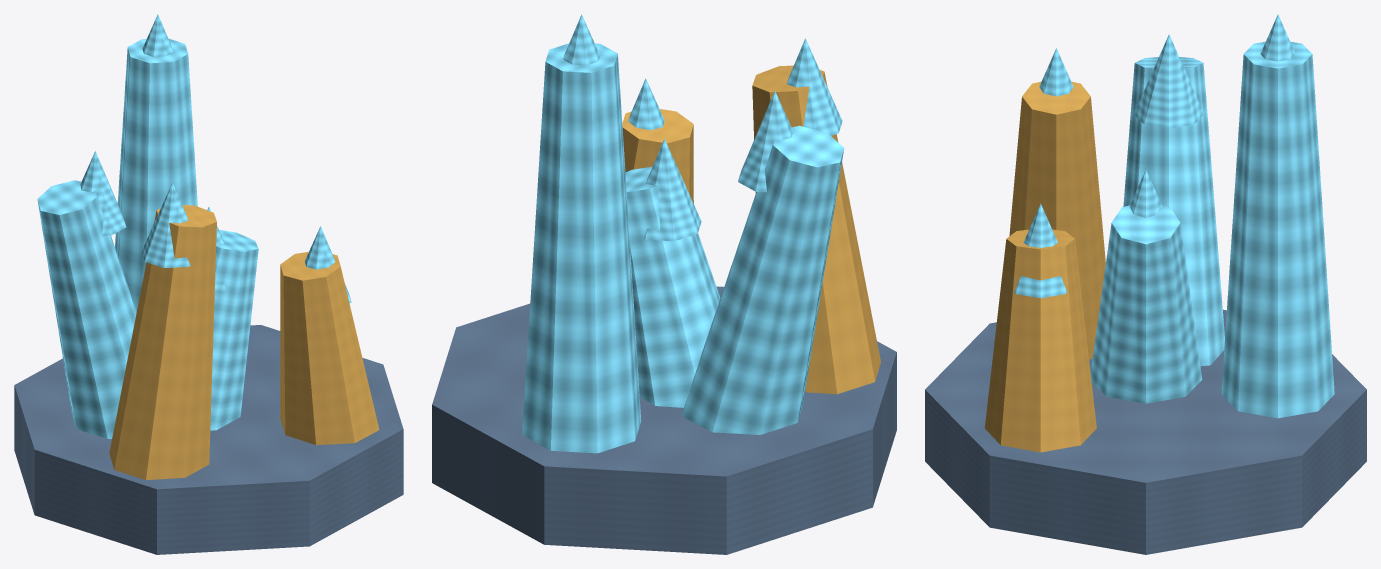
File: atlas100-s051-a04.glb
The picture shows the model from 3 angles, left to right: view 1: azimuth 30°, elevation 25°; view 2: azimuth 150°, elevation 25°; view 3: azimuth 270°, elevation 25°; orthographic projection. The views are drawn at different scales.
Parts seen in each view (by area): view 1: atlas100-s051-a04:part-000, atlas100-s051-a04:part-003, atlas100-s051-a04:part-009, atlas100-s051-a04:part-007, atlas100-s051-a04:part-005, atlas100-s051-a04:part-001, atlas100-s051-a04:part-004, atlas100-s051-a04:part-010, atlas100-s051-a04:part-008, atlas100-s051-a04:part-006; view 2: atlas100-s051-a04:part-000, atlas100-s051-a04:part-005, atlas100-s051-a04:part-009, atlas100-s051-a04:part-001, atlas100-s051-a04:part-003, atlas100-s051-a04:part-007, atlas100-s051-a04:part-002, atlas100-s051-a04:part-004, atlas100-s051-a04:part-010, atlas100-s051-a04:part-006, atlas100-s051-a04:part-008; view 3: atlas100-s051-a04:part-000, atlas100-s051-a04:part-005, atlas100-s051-a04:part-007, atlas100-s051-a04:part-001, atlas100-s051-a04:part-003, atlas100-s051-a04:part-009, atlas100-s051-a04:part-010, atlas100-s051-a04:part-008, atlas100-s051-a04:part-004, atlas100-s051-a04:part-006, atlas100-s051-a04:part-002.
Boxes of the visible parts, x1=… form: atlas100-s051-a04:part-000: x1=14, y1=325, x2=403, y2=554; atlas100-s051-a04:part-003: x1=109, y1=205, x2=216, y2=479; atlas100-s051-a04:part-009: x1=37, y1=180, x2=136, y2=438; atlas100-s051-a04:part-007: x1=280, y1=251, x2=379, y2=445; atlas100-s051-a04:part-005: x1=115, y1=38, x2=197, y2=311; atlas100-s051-a04:part-001: x1=210, y1=230, x2=258, y2=430; atlas100-s051-a04:part-004: x1=141, y1=182, x2=190, y2=267; atlas100-s051-a04:part-010: x1=80, y1=151, x2=126, y2=235; atlas100-s051-a04:part-008: x1=305, y1=226, x2=351, y2=303; atlas100-s051-a04:part-006: x1=142, y1=14, x2=173, y2=56; atlas100-s051-a04:part-000: x1=432, y1=286, x2=896, y2=554; atlas100-s051-a04:part-005: x1=522, y1=43, x2=641, y2=453; atlas100-s051-a04:part-009: x1=682, y1=125, x2=844, y2=434; atlas100-s051-a04:part-001: x1=625, y1=166, x2=720, y2=407; atlas100-s051-a04:part-003: x1=752, y1=65, x2=880, y2=394; atlas100-s051-a04:part-007: x1=622, y1=109, x2=693, y2=203; atlas100-s051-a04:part-002: x1=643, y1=138, x2=701, y2=241; atlas100-s051-a04:part-004: x1=787, y1=38, x2=842, y2=135; atlas100-s051-a04:part-010: x1=738, y1=91, x2=792, y2=192; atlas100-s051-a04:part-006: x1=563, y1=14, x2=599, y2=65; atlas100-s051-a04:part-008: x1=628, y1=78, x2=664, y2=130; atlas100-s051-a04:part-000: x1=925, y1=309, x2=1366, y2=554; atlas100-s051-a04:part-005: x1=1221, y1=41, x2=1334, y2=418; atlas100-s051-a04:part-007: x1=984, y1=229, x2=1096, y2=452; atlas100-s051-a04:part-001: x1=1090, y1=205, x2=1202, y2=403; atlas100-s051-a04:part-003: x1=1009, y1=81, x2=1105, y2=359; atlas100-s051-a04:part-009: x1=1123, y1=57, x2=1224, y2=366; atlas100-s051-a04:part-010: x1=1134, y1=34, x2=1204, y2=128; atlas100-s051-a04:part-008: x1=1014, y1=203, x2=1067, y2=298; atlas100-s051-a04:part-004: x1=1039, y1=48, x2=1073, y2=96; atlas100-s051-a04:part-006: x1=1260, y1=14, x2=1295, y2=61; atlas100-s051-a04:part-002: x1=1129, y1=170, x2=1162, y2=217.
Bounding box in the file's own units: 1.07 × 1.21 × 1.07.
Materials: 3 (3 with a texture image).
